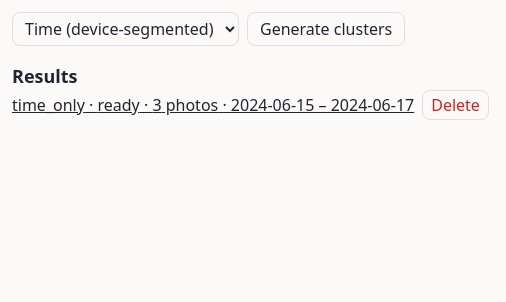
it: ClusterView › does not show "Create post" on a not_clusterable or empty node
Click the button with test id "result-row" at (213, 105), box [12,93,414,117]
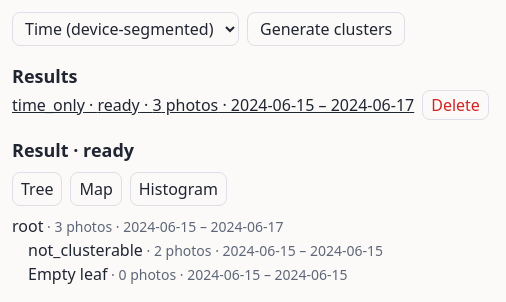
Now the text "Empty leaf" is shown, box [28,263,107,285]
